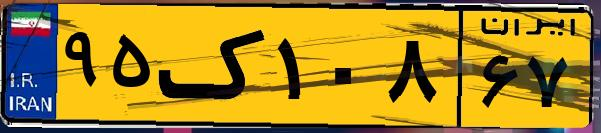0: (330, 28, 385, 110)
1: (270, 28, 330, 110)
5: (110, 28, 158, 98)
6: (475, 38, 525, 113)
7: (525, 38, 570, 115)
8: (385, 28, 445, 110)
9: (57, 26, 110, 100)
ک: (158, 12, 270, 120)
